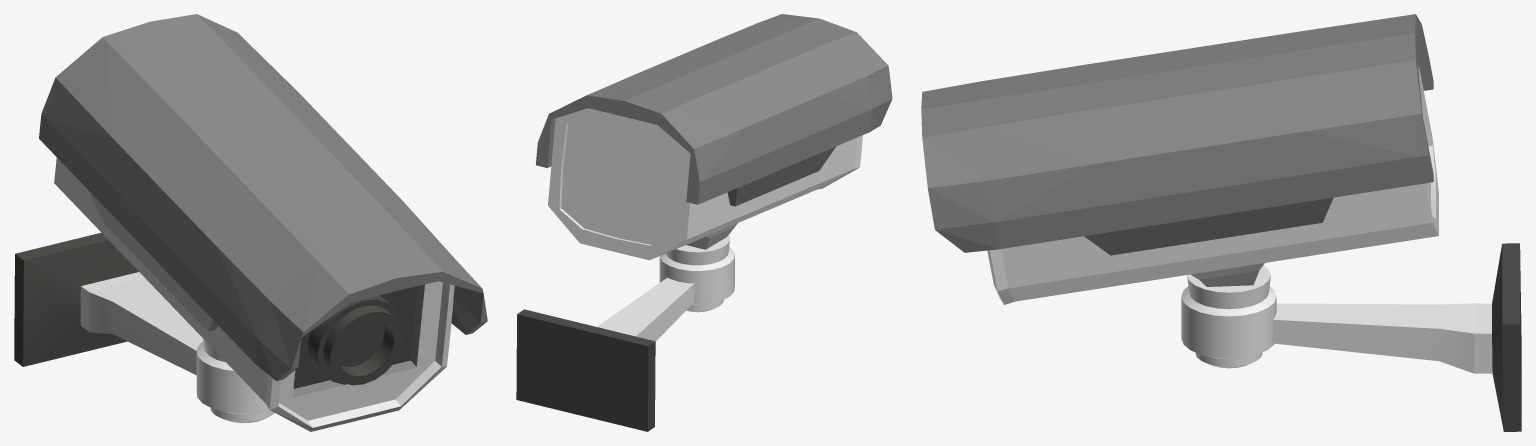
File: camera.fbx
3 renders of one model, left to right at view 1: azimuth 30°, elevation 25°; view 2: azimuth 150°, elevation 25°; view 3: azimuth 270°, elevation 25°, orthographic. The views are drawn at different scales.
Parts seen in each view (by area): view 1: pCube95, pCube97, pCylinder5, pCylinder6; view 2: pCube95, pCube97, pCylinder6; view 3: pCube95, pCube97, pCylinder6.
Part boxes in pixels (bbox=[...]): pCube95: bbox=[39, 14, 487, 431]; pCube97: bbox=[14, 232, 203, 375]; pCylinder5: bbox=[308, 295, 402, 385]; pCylinder6: bbox=[196, 339, 274, 423]; pCube95: bbox=[536, 14, 892, 260]; pCube97: bbox=[516, 277, 694, 431]; pCylinder6: bbox=[659, 235, 734, 312]; pCube95: bbox=[921, 14, 1438, 304]; pCube97: bbox=[1272, 243, 1521, 431]; pCylinder6: bbox=[1181, 265, 1276, 368].
Bounding box in the file's own units: 1.6 × 2.69 × 4.08.
